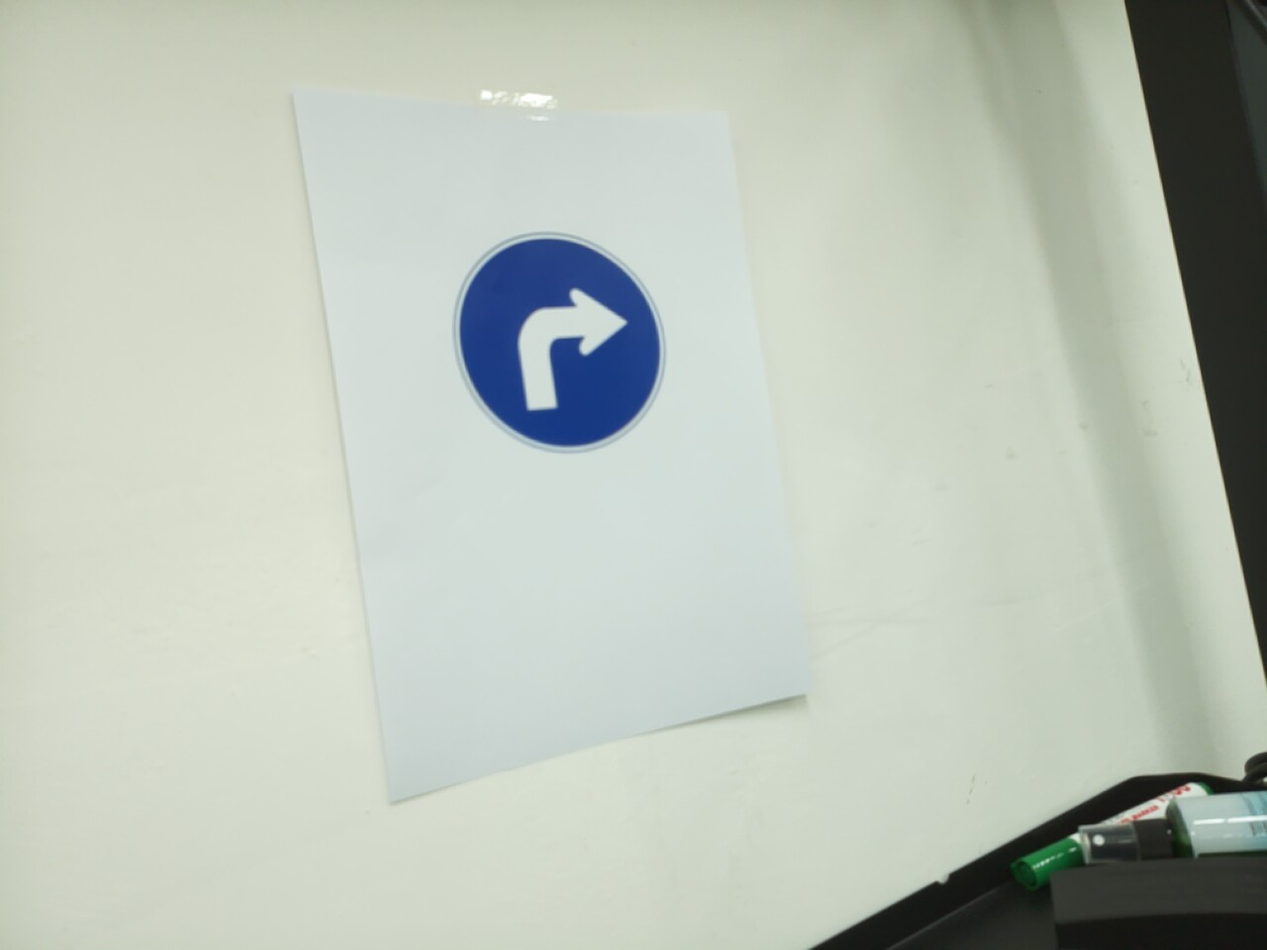right_turn: (451, 231, 668, 455)
